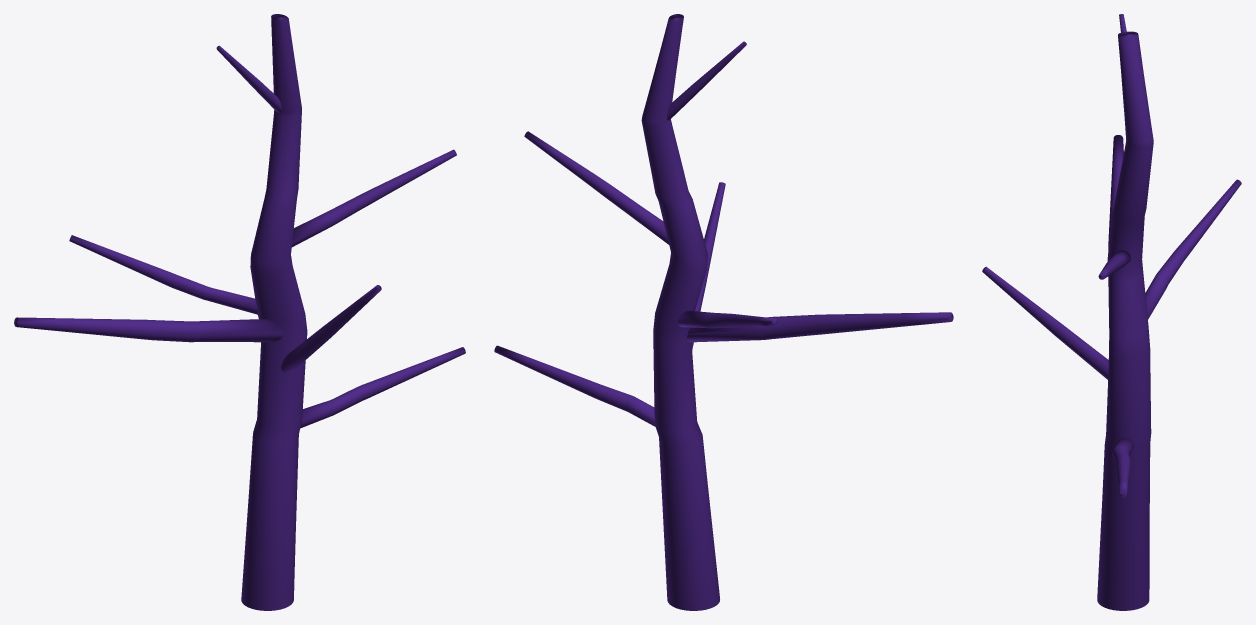
File: Arbol_dead1.fbx
3 renders of one model, left to right at view 1: azimuth 30°, elevation 25°; view 2: azimuth 150°, elevation 25°; view 3: azimuth 270°, elevation 25°, orthographic.
Visible parts, largest first — view 1: Arbol_dead.001; view 2: Arbol_dead.001; view 3: Arbol_dead.001.
Part boxes in pixels (x1,y1,x2,y2): Arbol_dead.001: (14, 14, 465, 610); Arbol_dead.001: (494, 14, 953, 610); Arbol_dead.001: (982, 14, 1241, 610).
Bounding box in the file's own units: 284 × 347 × 143.
